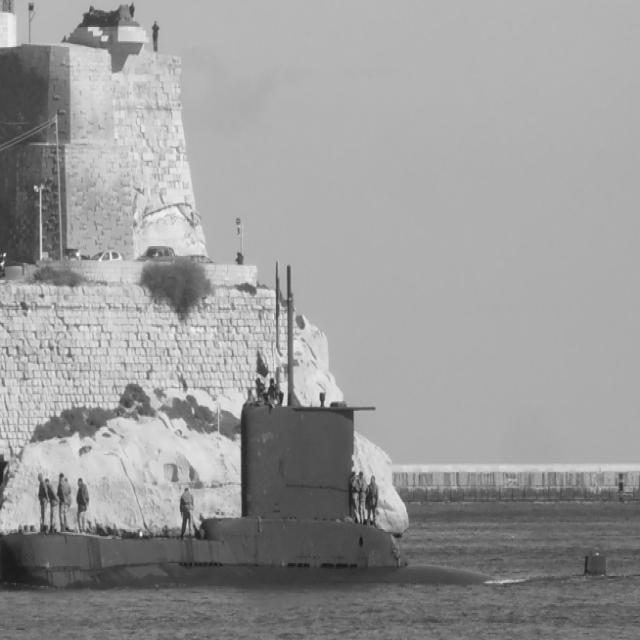submarine: (3, 258, 624, 587)
